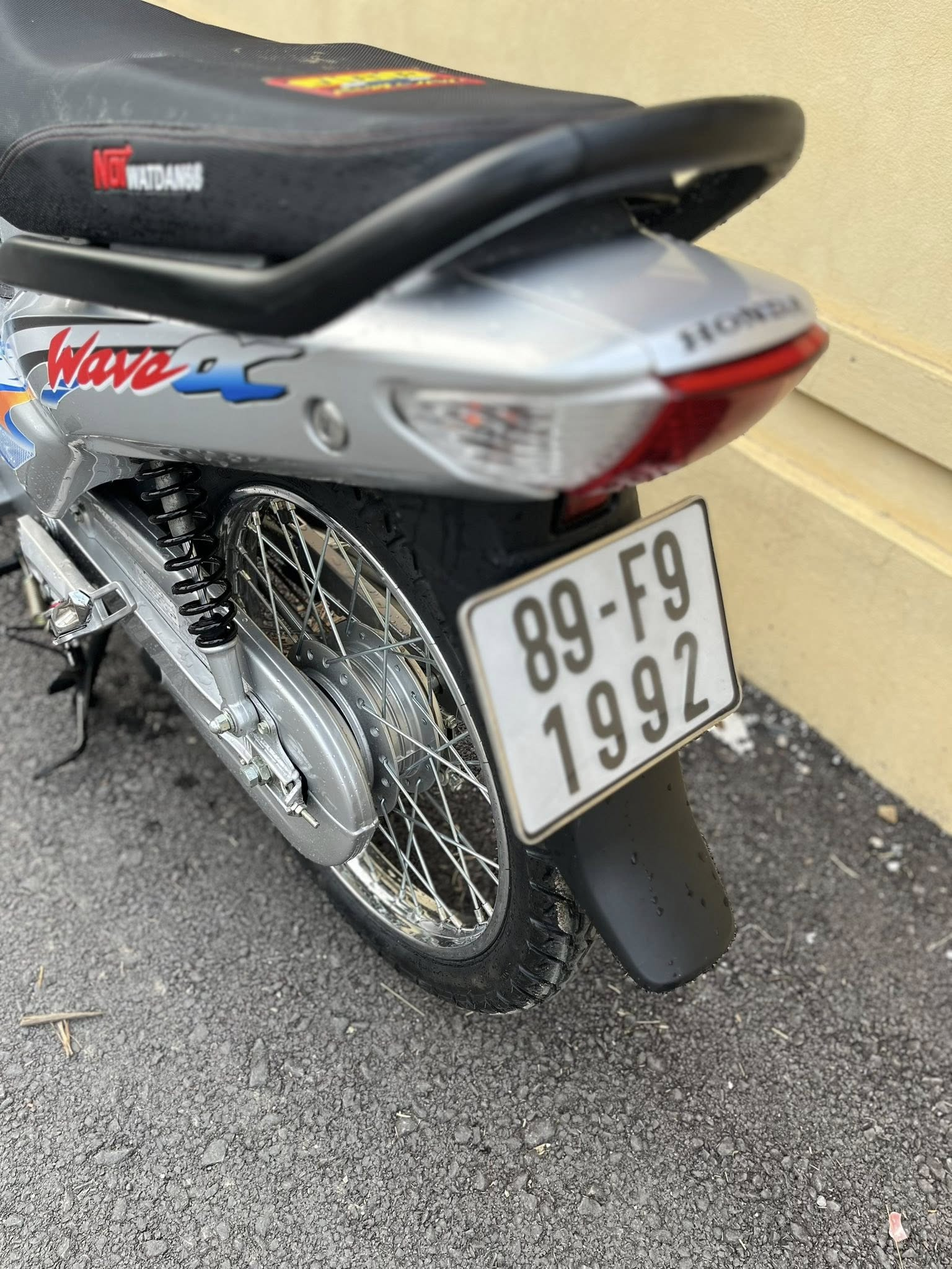bien_so: (441, 490, 768, 857)
